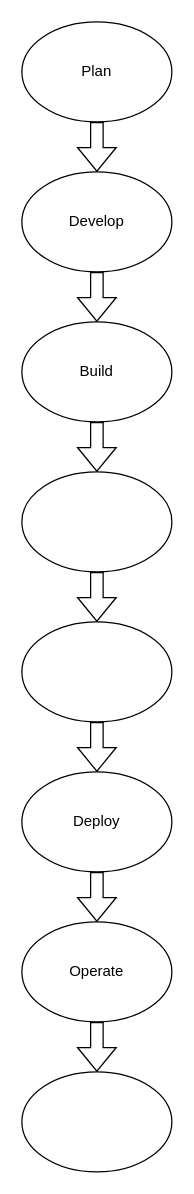
The diagram is 194 pixels wide and 1194 high, and some of its shapes have lost their labels. Each missing label, with the centre of its shape:
Monitor: point (96, 1121)
Release: point (96, 671)
Testing: point (96, 521)
